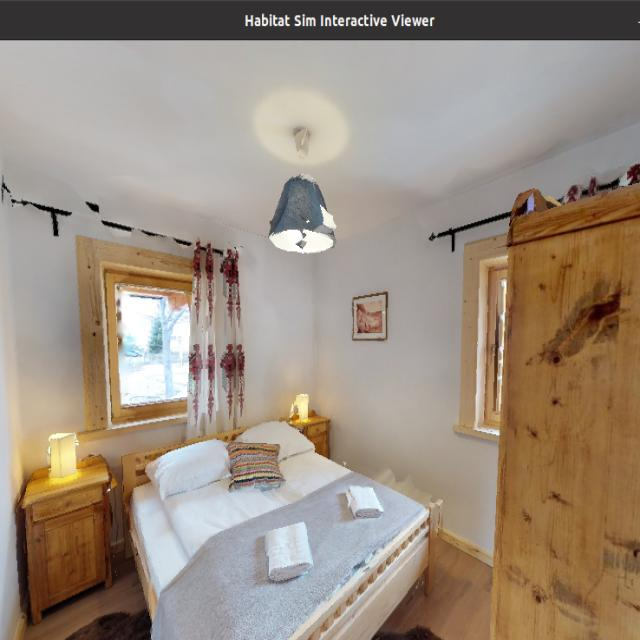bed: (104, 369, 474, 640)
